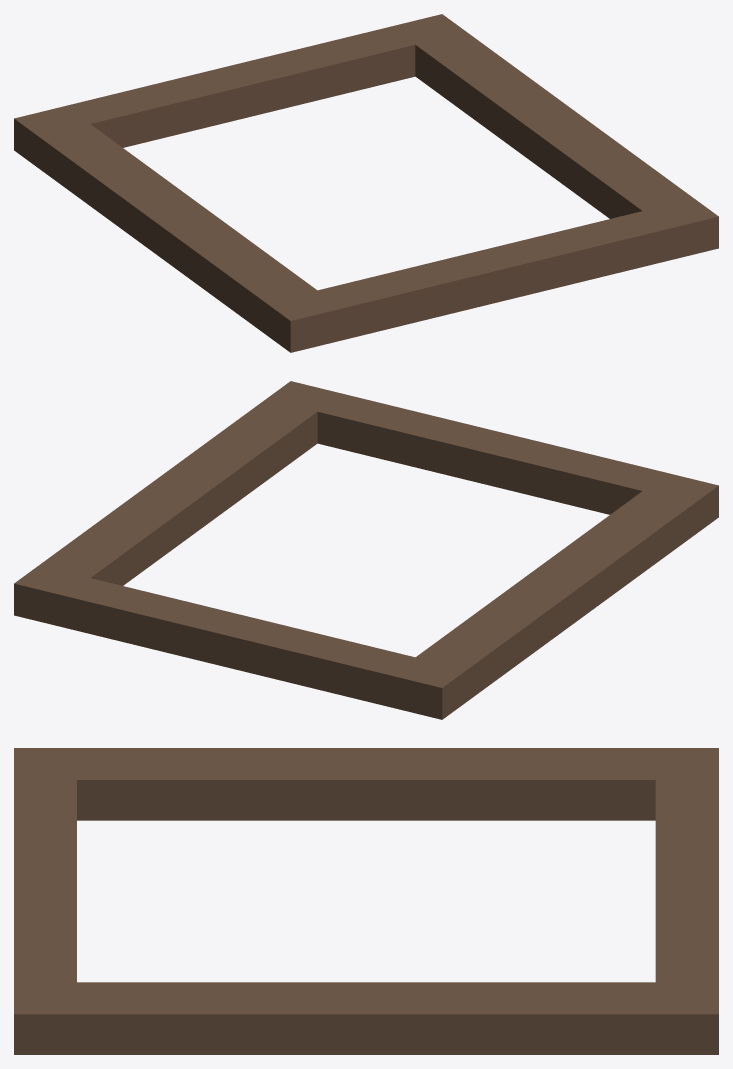
File: keep-wd02_103.obj
3 renders of one model, top to bottom at view 1: azimuth 30°, elevation 25°; view 2: azimuth 150°, elevation 25°; view 3: azimuth 270°, elevation 25°, orthographic. The views are drawn at different scales.
Size of the model in its own units: 0.4218 by 0.03 by 0.4721.
Materials: 1 (1 with a texture image).
